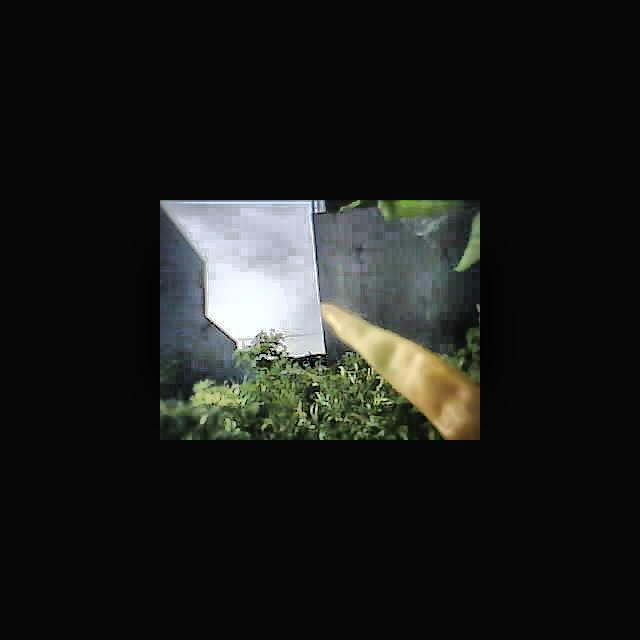Cabai: (321, 300, 480, 425)
